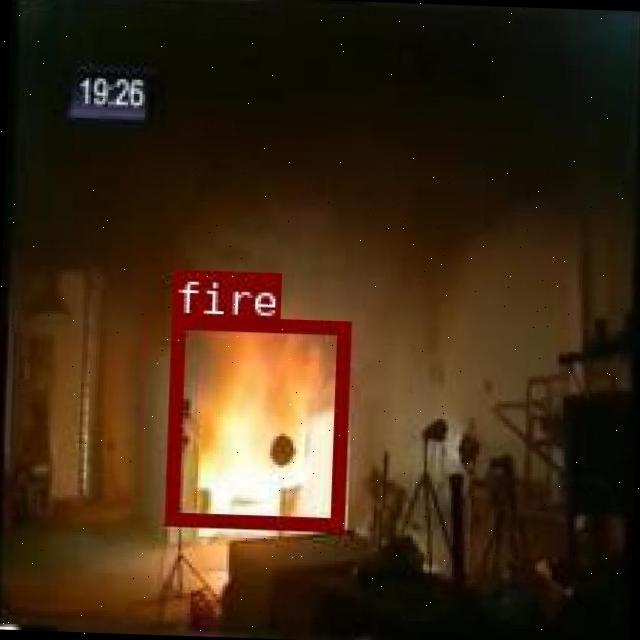fire: (164, 314, 349, 528)
